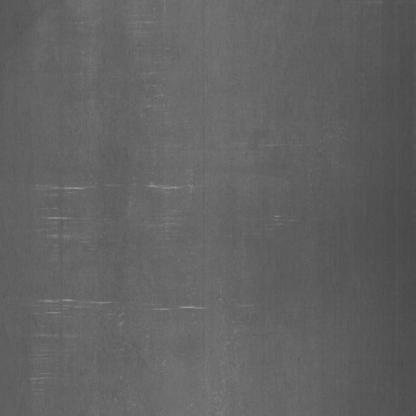waist_folding: (29, 105, 306, 368)
